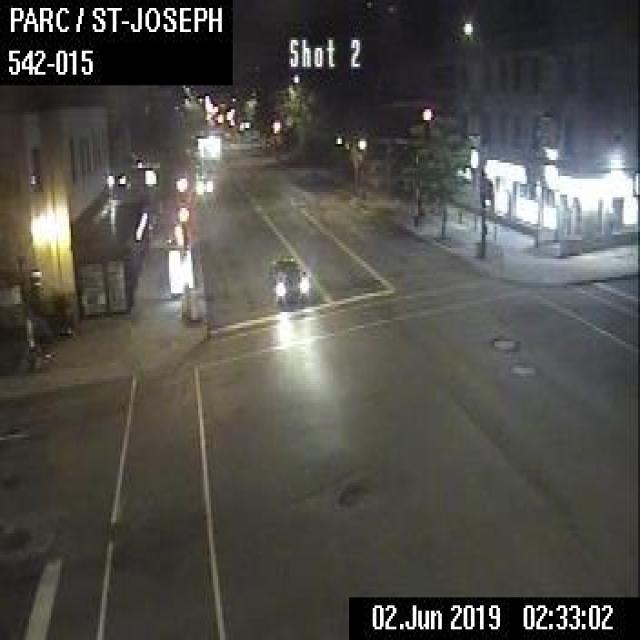construction: (187, 284, 196, 320)
vehicle: (266, 253, 309, 304), (191, 171, 214, 197)
